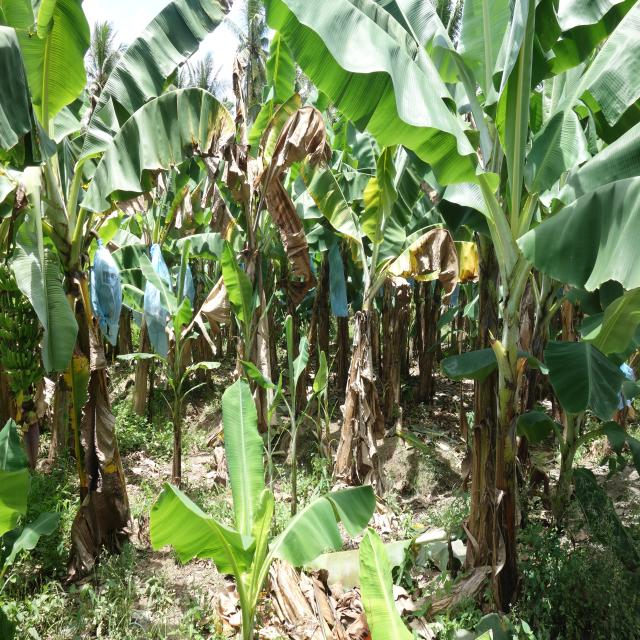Banana-plant: (45, 187, 117, 558), (492, 181, 550, 608), (455, 181, 501, 568), (324, 244, 384, 531)
